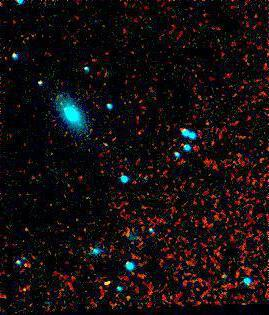star: (65, 109, 95, 139)
